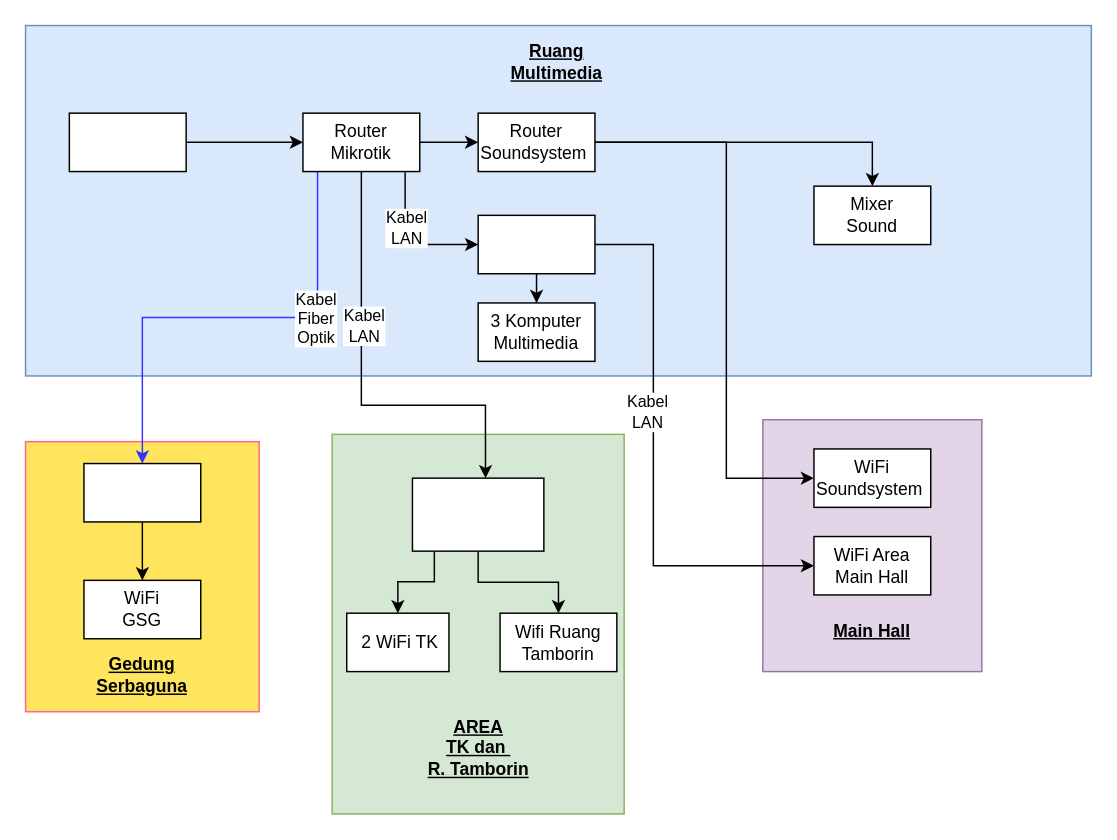
This 1117x840 diagram has some shape labels left out. The centre of each missing label's shape, as x and y in pixels:
Modem Indihome: [127,142]
Switch: [477,514]
Switch CCTV GSG: [141,492]
Switch Multimedia: [536,244]
